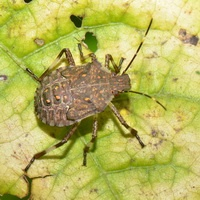insect: (0, 24, 145, 179), (24, 18, 165, 172)
